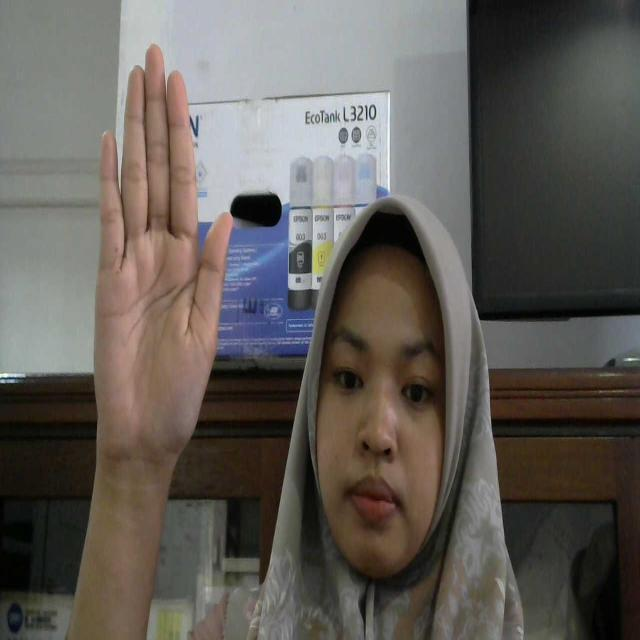hand: (74, 42, 234, 580)
